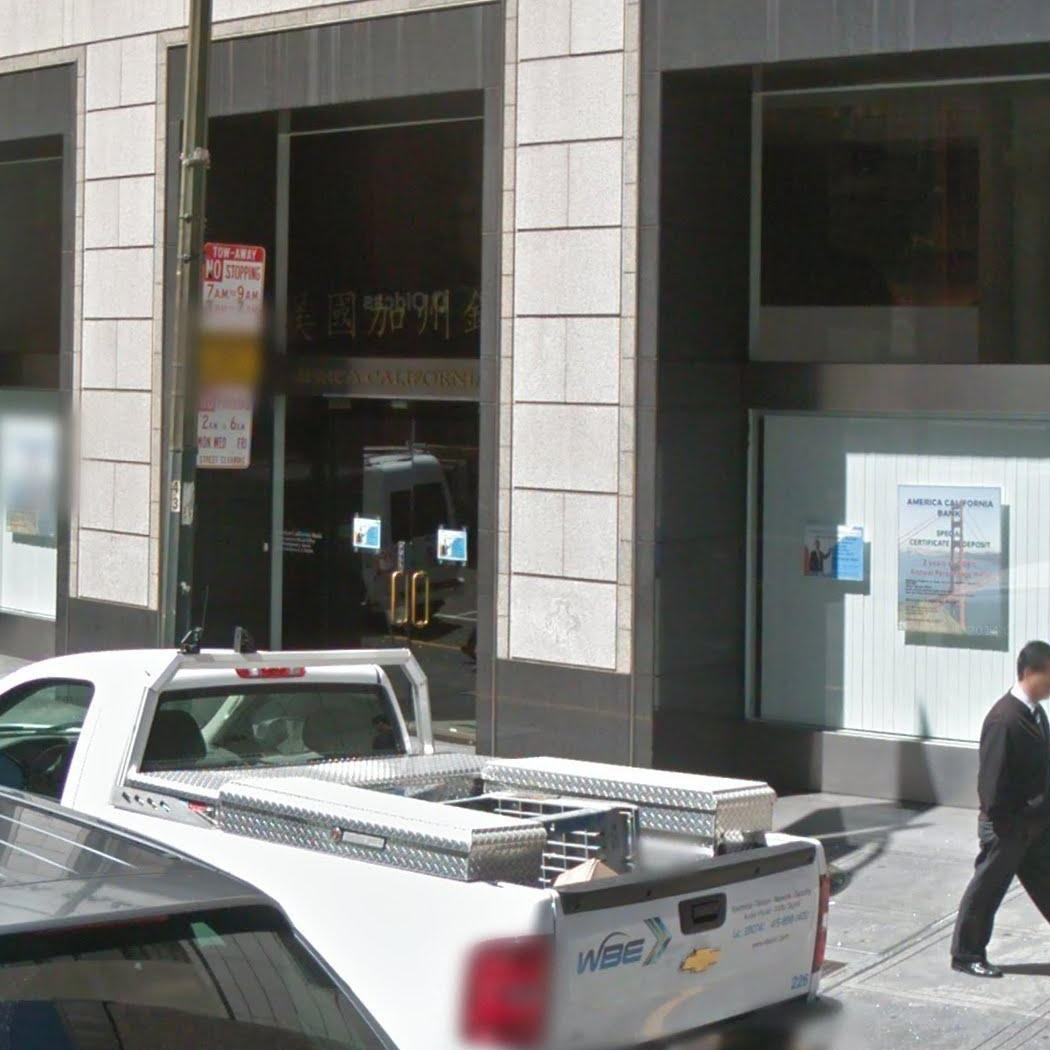No Parking: (197, 377, 253, 473)
